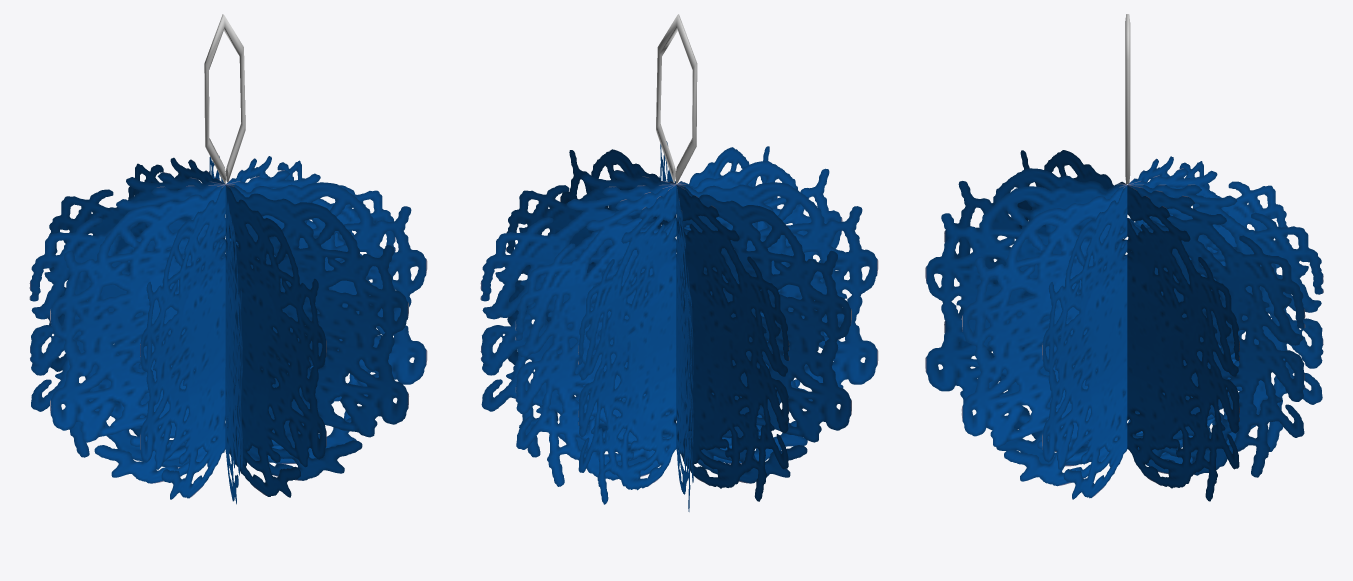
File: Loofah_E.FBX
3 renders of one model, left to right at view 1: azimuth 30°, elevation 25°; view 2: azimuth 150°, elevation 25°; view 3: azimuth 270°, elevation 25°, orthographic.
Parts seen in each view (by area): view 1: Loofah; view 2: Loofah; view 3: Loofah.
Boxes of the visible parts, x1,y1,x2,y2 form: Loofah: (29, 14, 427, 504); Loofah: (480, 14, 878, 511); Loofah: (925, 14, 1323, 501).
Bounding box in the file's own units: 30 × 36.22 × 30.
